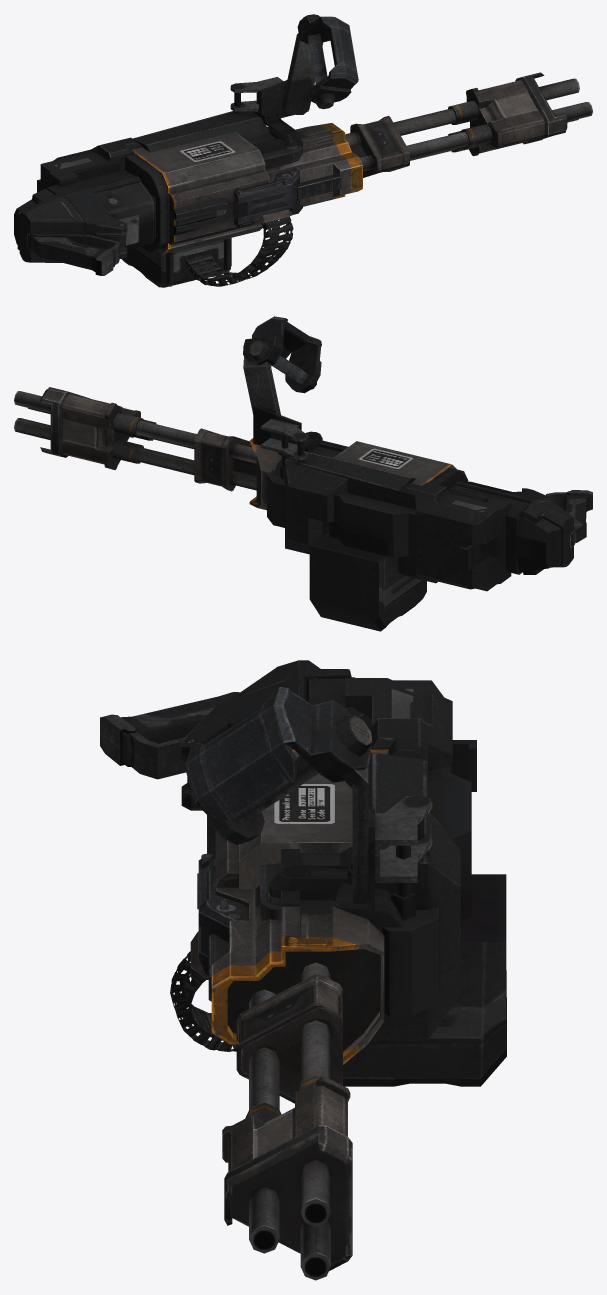
File: t6_wpn_minigun_world_LOD0.obj
The picture shows the model from 3 angles, top to bottom: view 1: azimuth 30°, elevation 25°; view 2: azimuth 150°, elevation 25°; view 3: azimuth 270°, elevation 25°; orthographic projection. The views are drawn at different scales.
Visible parts, largest first — view 1: mtl_t6_wpn_minigun, mtl_t6_wpn_minigun_ammo_noalpha; view 2: mtl_t6_wpn_minigun; view 3: mtl_t6_wpn_minigun, mtl_t6_wpn_minigun_ammo_noalpha.
Part boxes in pixels (box(x1,y1,x2,y2)): mtl_t6_wpn_minigun: box(14, 14, 592, 287); mtl_t6_wpn_minigun_ammo_noalpha: box(185, 217, 293, 286); mtl_t6_wpn_minigun: box(14, 316, 592, 631); mtl_t6_wpn_minigun: box(100, 660, 506, 1280); mtl_t6_wpn_minigun_ammo_noalpha: box(170, 951, 239, 1051).
Size of the model in its own units: 121 by 51.02 by 38.96.
